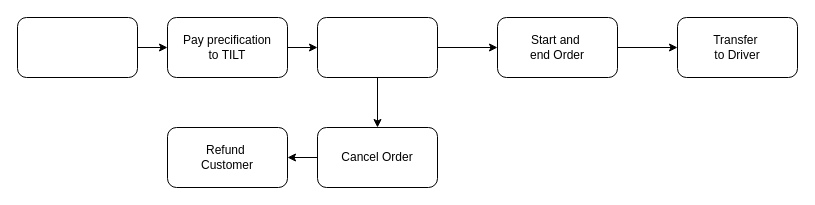
Some shapes in this 815 by 205 pixel diagram are drawn without their labels. Each missing label, with the box of its shape:
Find a Driver: (316, 16, 438, 78)
Precify an Order: (16, 16, 138, 78)
